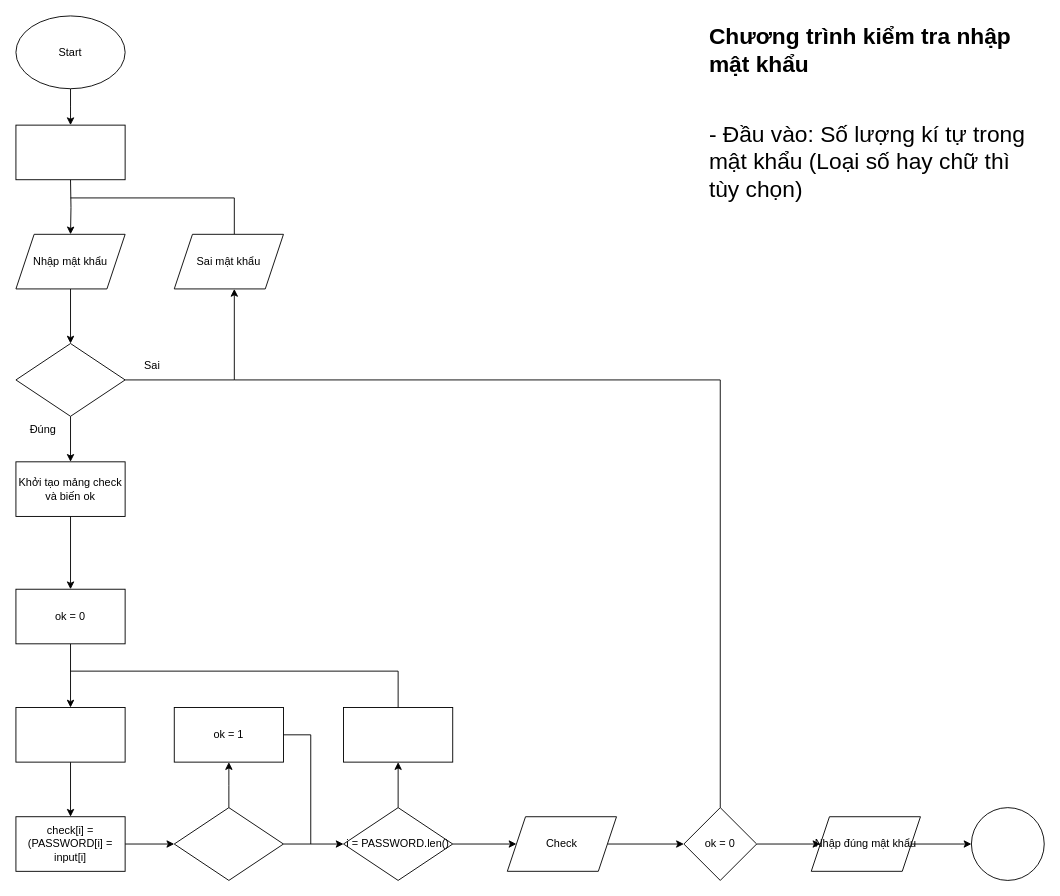
Image size: 1060x896. Some labels were removed from this diagram. Each missing label, with the centre of its shape:
"check[i]" belongs at pixel 228 843.
"i = 0" belongs at pixel 70 734.
"i = i+1" belongs at pixel 398 734.
"Khởi tạo mật khẩu" belongs at pixel 70 152.
"Kết thúc chương trình" belongs at pixel 1007 843.
"PASSWORD.len() = input.len()" belongs at pixel 70 379.
